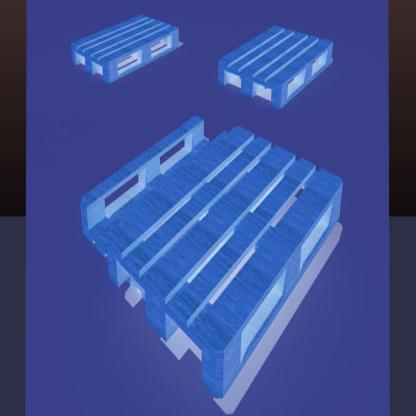BoxFace: (101, 123, 343, 399), (219, 23, 334, 112), (69, 11, 181, 87)
